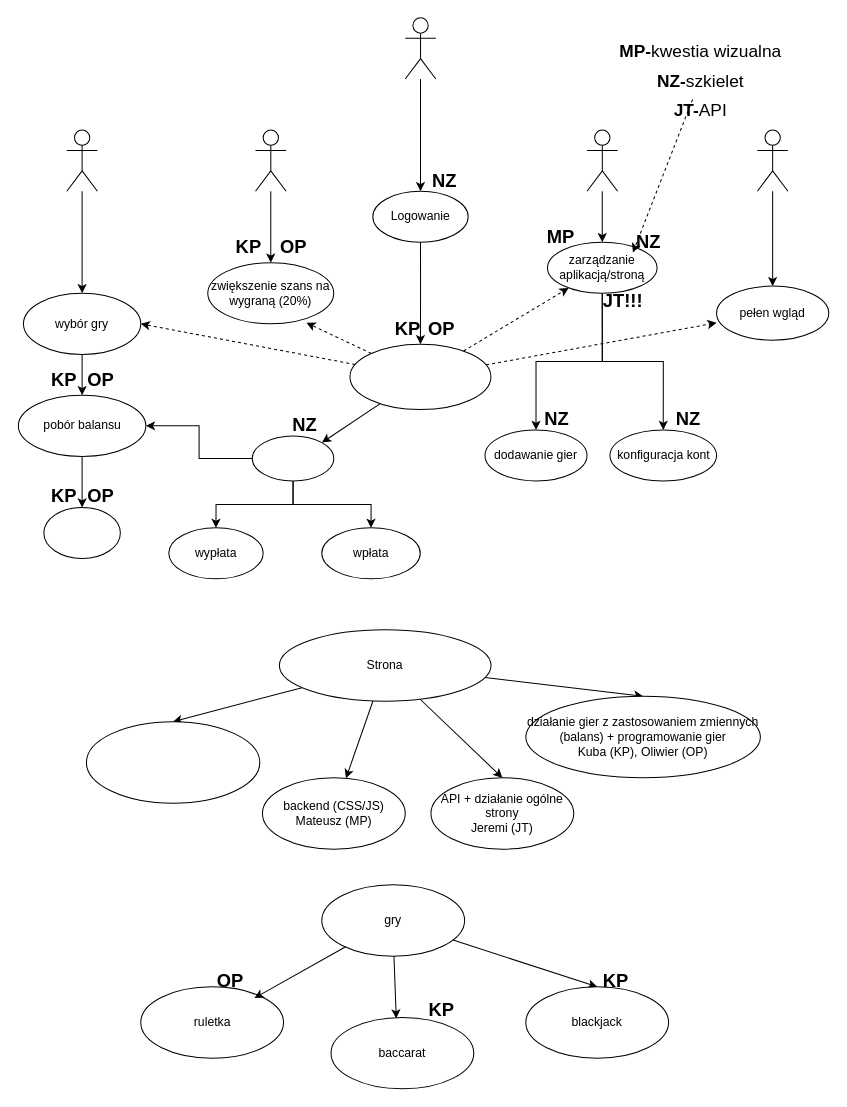
Image size: 847x1107. Some labels were removed from this diagram. The centre of each missing label's shape, as x and y in pixels:
"admin" belongs at point 602,160.
"balans" belongs at point 292,458.
"frontend (HTML szkielet) + SQL Nikodem (NZ)" belongs at point 172,762.
"gra" belongs at point 81,532.
"gracz" belongs at point 81,160.
"konto (pobieranie danych -typ konta)" belongs at point 420,376.
"owner" belongs at point 772,160.
"partner" belongs at point 270,160.
"user" belongs at point 420,48.
